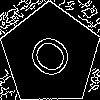O: (25, 30, 82, 88)
